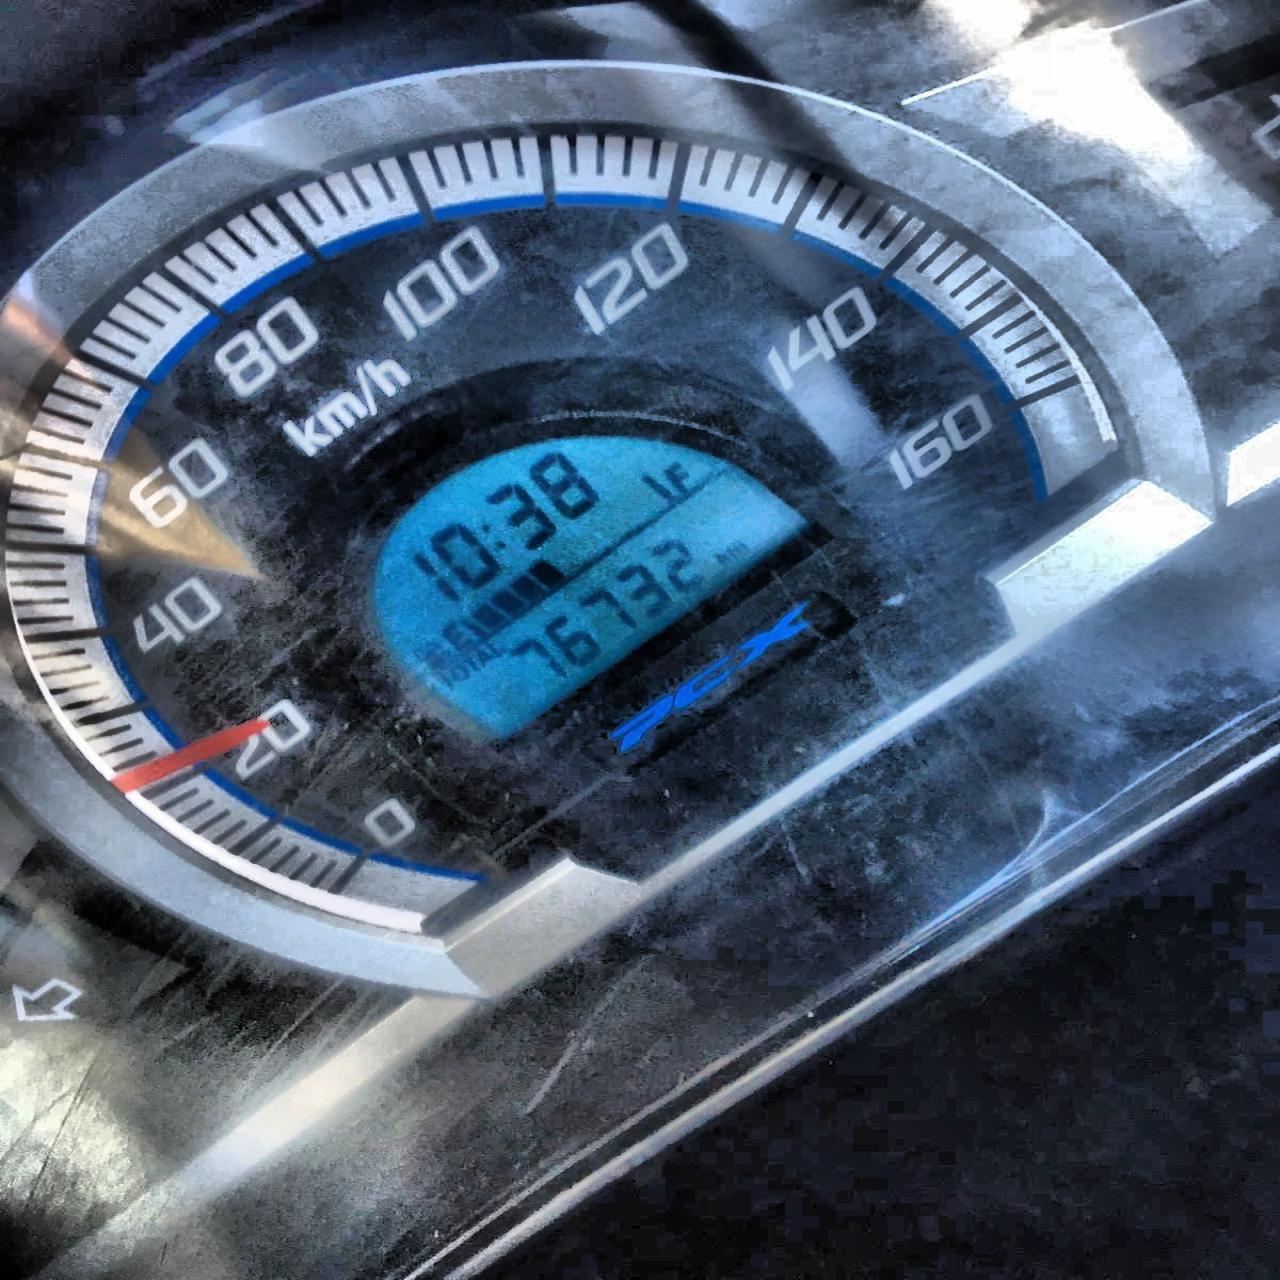0: (429, 519, 499, 588)
1: (400, 554, 462, 607)
2: (648, 538, 709, 592)
3: (481, 485, 558, 549), (611, 563, 673, 617)
6: (536, 615, 606, 668)
7: (577, 587, 639, 631), (512, 639, 566, 683)
8: (526, 448, 604, 518)
X: (436, 620, 476, 654), (663, 458, 696, 498), (478, 517, 512, 553), (468, 646, 495, 666), (431, 674, 458, 694), (461, 654, 483, 676), (715, 547, 737, 570), (448, 663, 471, 685), (484, 636, 508, 658), (724, 538, 749, 558)
odometer: (365, 418, 823, 738)
